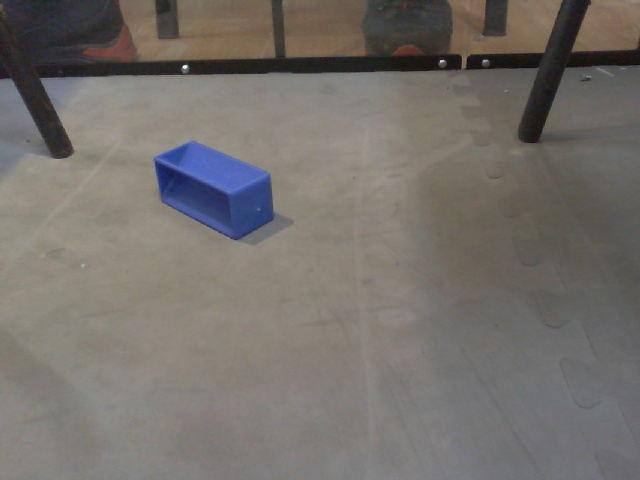BlueSample: (152, 136, 278, 244)
